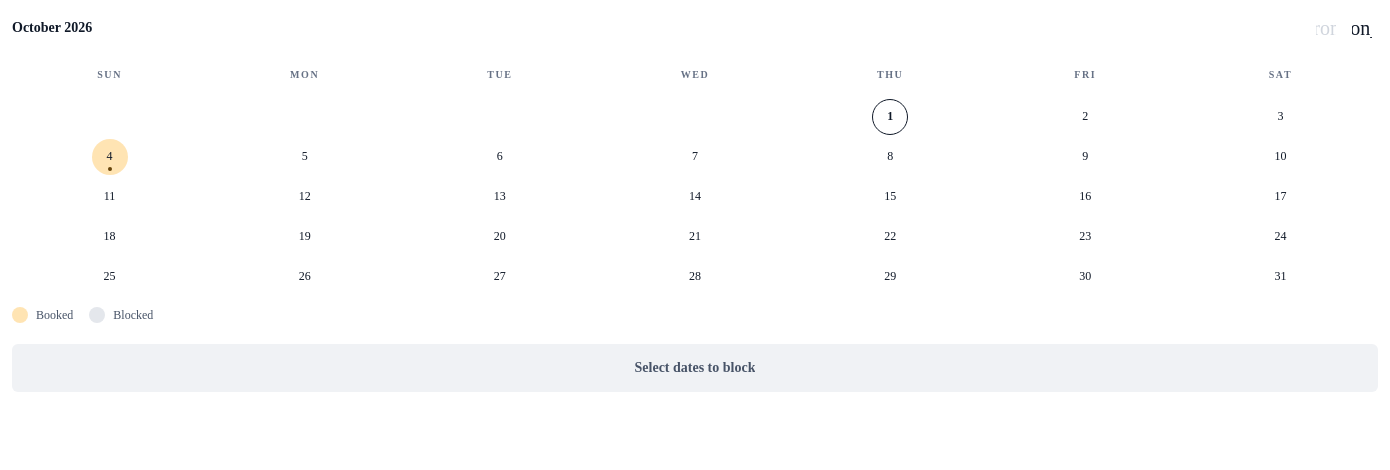
Test: BlockOutForm › names the mentee when a picked day has their session (design copy)
This screenshot has width=1390, height=470.
Expected: the text "Blocking the day" is not shown
Click the button named "October 4, session booked" at (110, 156), box [92,138,128,174]
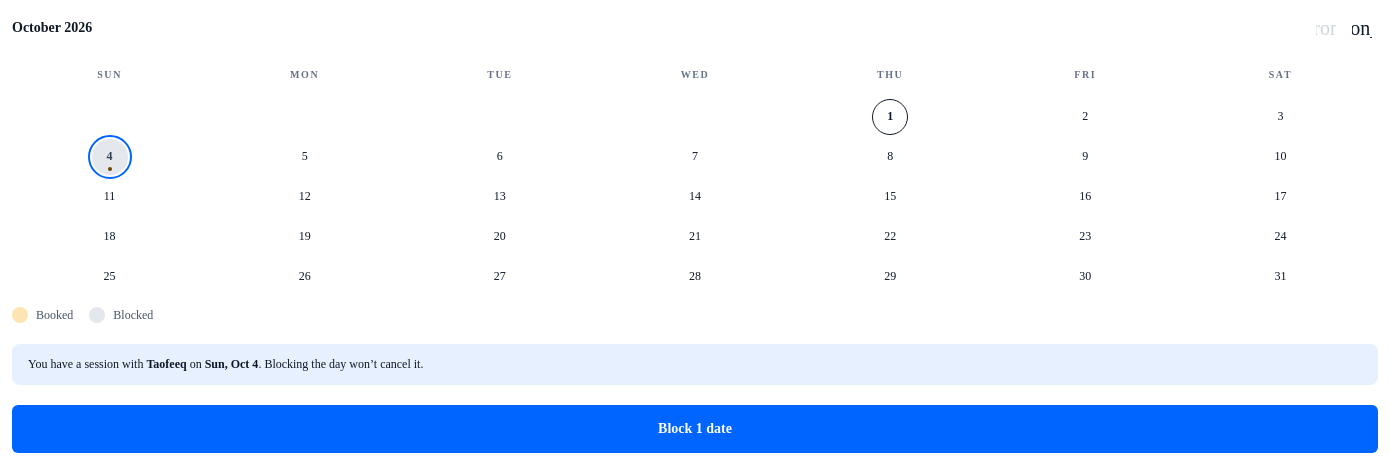
Expected: the message reads "You have a session with Taofeeq on Sun, Oct 4. Blocking the day won’t cancel it.", [12,344,1378,385]
